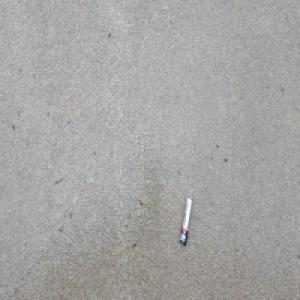Battery: (178, 195, 192, 247)
